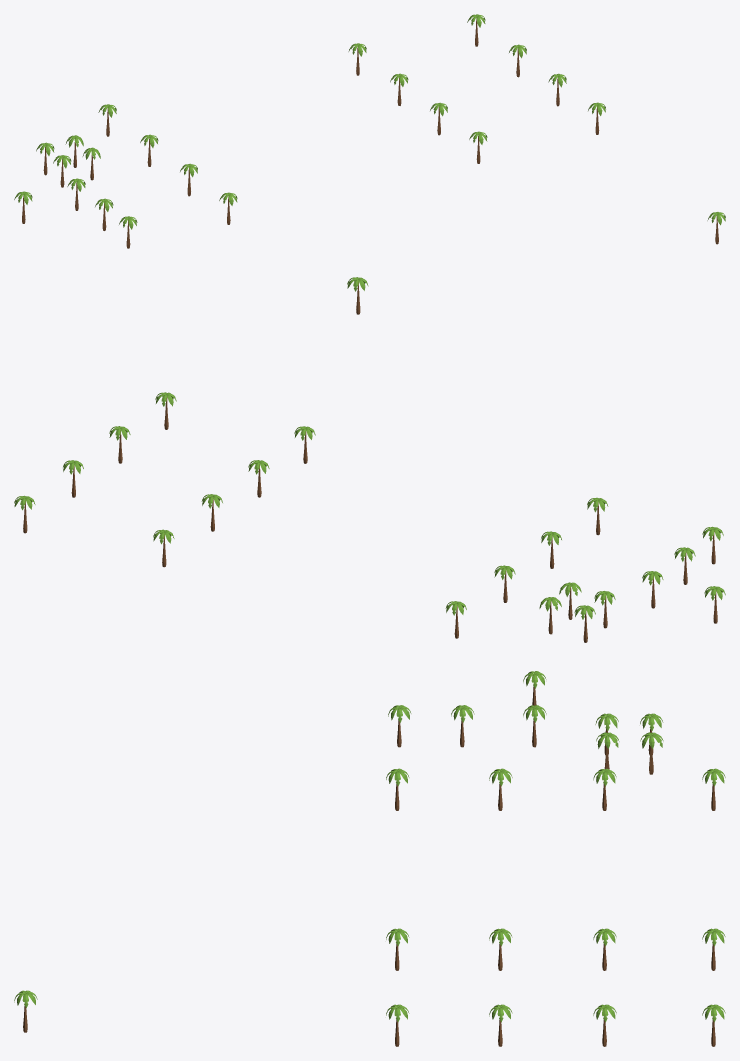
The model's file is tree-medium.glb.
The picture shows the model from 3 angles, top to bottom: view 1: azimuth 30°, elevation 25°; view 2: azimuth 150°, elevation 25°; view 3: azimuth 270°, elevation 25°; orthographic projection. The views are drawn at different scales.
Bounding box in the file's own units: 149 × 8.05 × 131.
